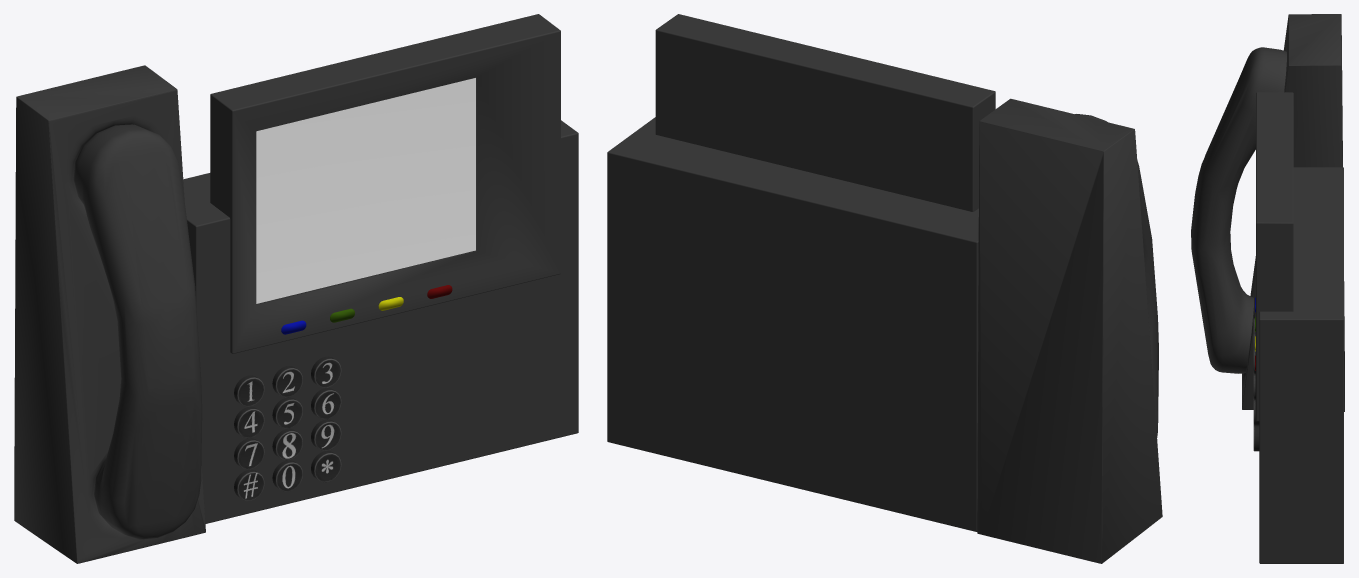
File: TELP.fbx
3 renders of one model, left to right at view 1: azimuth 30°, elevation 25°; view 2: azimuth 150°, elevation 25°; view 3: azimuth 270°, elevation 25°, orthographic. The views are drawn at different scales.
Parts seen in each view (by area): view 1: TELP; view 2: TELP; view 3: TELP.
Boxes of the visible parts, x1,y1,x2,y2 form: TELP: [14, 14, 578, 563]; TELP: [607, 14, 1162, 563]; TELP: [1191, 14, 1344, 563].
Bounding box in the file's own units: 27.44 × 21.78 × 8.75.
7 materials, 1 textured.
